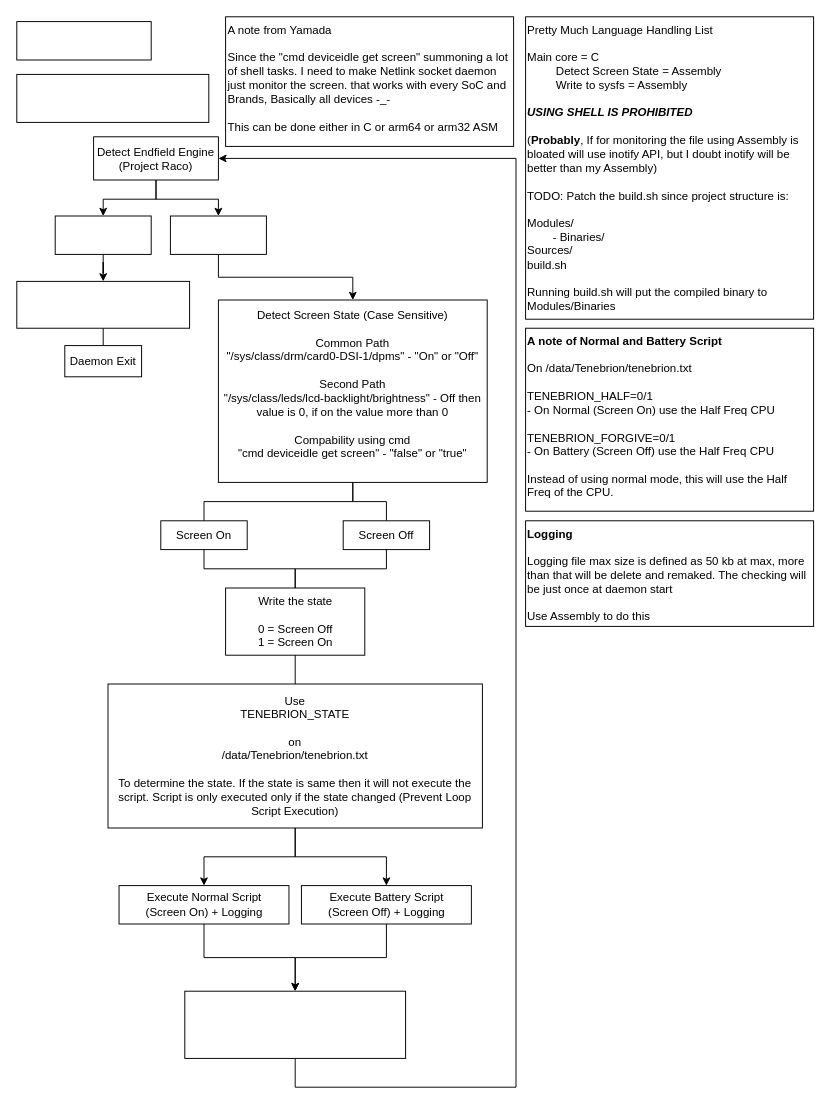
This 830x1112 diagram has some shape labels left out. Each missing label, with the centre of its shape:
Daemon Stop With Message "Tenebrion Blocked, Please Disable Endfield Engine": (103,304)
Detected Endfield: (102,234)
No Endfield Detected: (217,234)
Sleep 3 Checks Every 3 Seconds to Prevent Overhead: (295,1024)
Tenebrion Battery By: Kanagawa Yamada: (83,40)
Tenebrion Core (Main Daemon) - C / ASM arm64 (NO SUPPORT FOR 32 BIT): (112,97)
